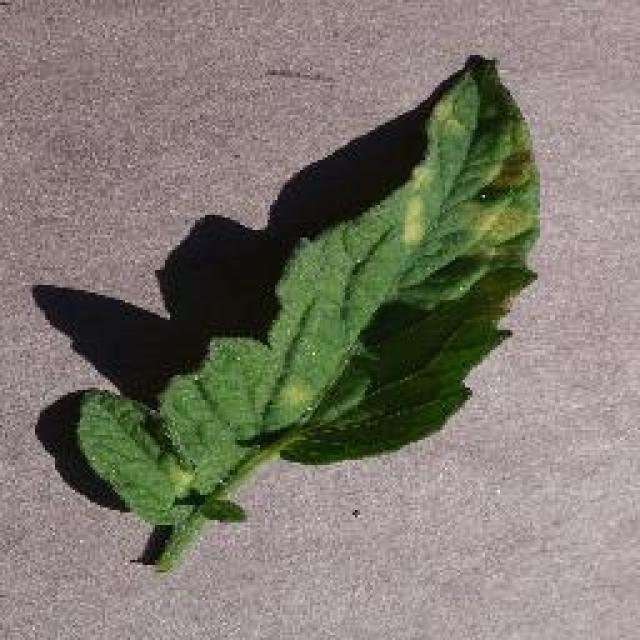Tom_Leaf_Mold: (407, 82, 558, 262)
